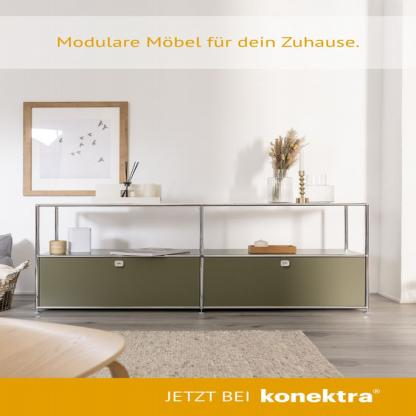Sideboard: (35, 200, 369, 317)
